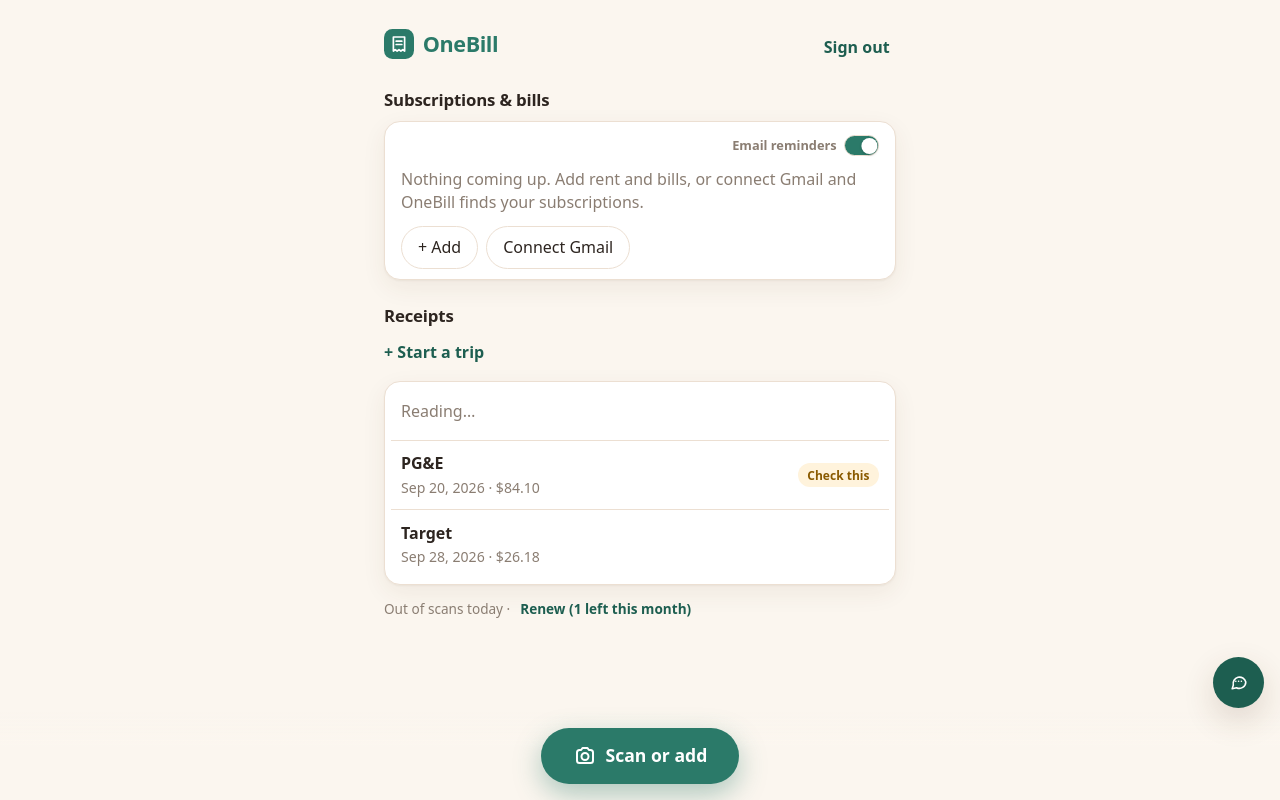
Test: Home — signed in › explains a refused renewal
The image size is (1280, 800).
Click the button "Renew (1 left this month)": [606, 609] box [514,595,698,623]
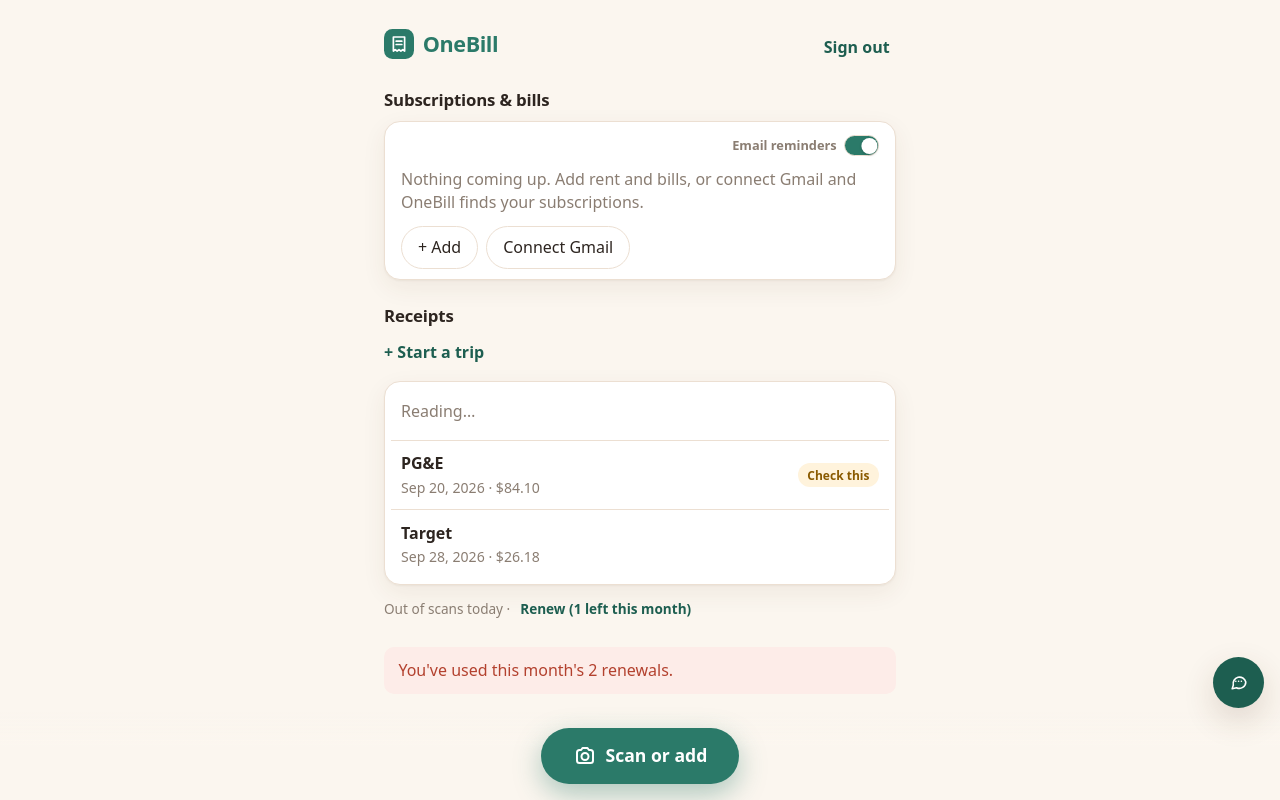
Check: the message shows "this month's 2 renewals", box [398,659,673,681]
